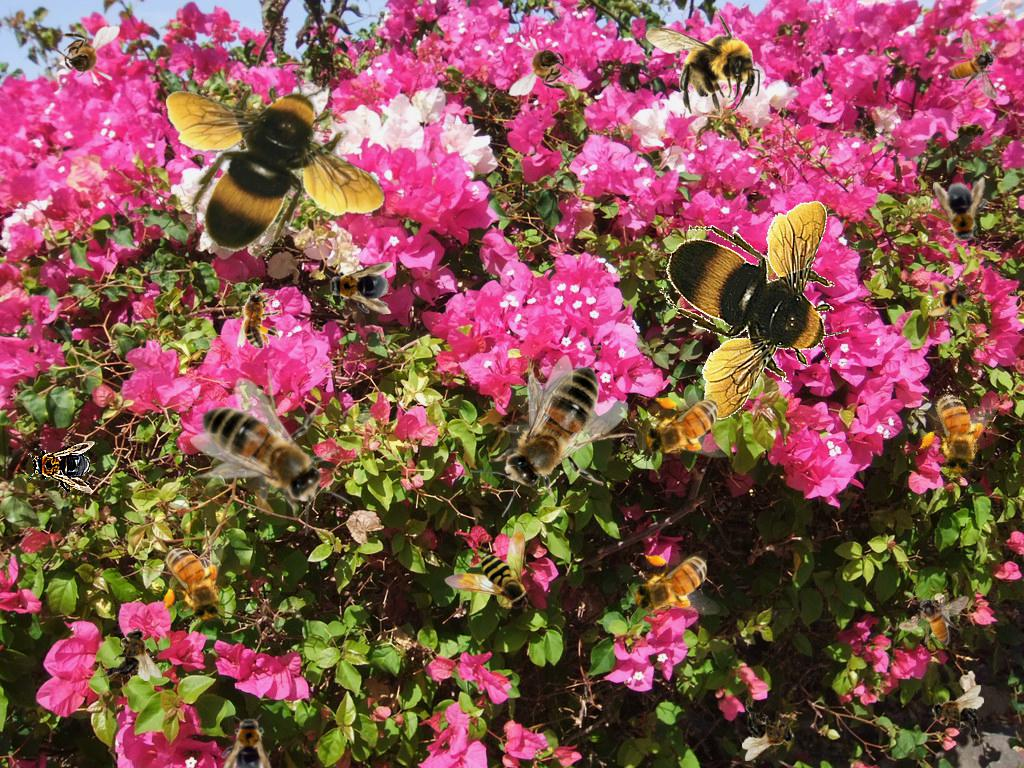Bee: (659, 201, 850, 421), (166, 68, 386, 259), (470, 355, 637, 517), (190, 369, 352, 536), (645, 9, 760, 116), (909, 377, 1005, 488), (444, 530, 532, 612), (638, 394, 731, 462), (160, 535, 228, 628), (627, 551, 720, 619), (932, 174, 994, 250), (509, 35, 579, 96), (50, 26, 120, 87), (898, 595, 969, 645), (948, 29, 998, 100), (27, 441, 95, 493), (325, 262, 393, 314), (742, 699, 795, 761), (931, 685, 984, 747), (100, 628, 162, 681), (237, 283, 282, 349), (221, 714, 273, 768), (928, 279, 972, 323), (951, 121, 991, 143)
